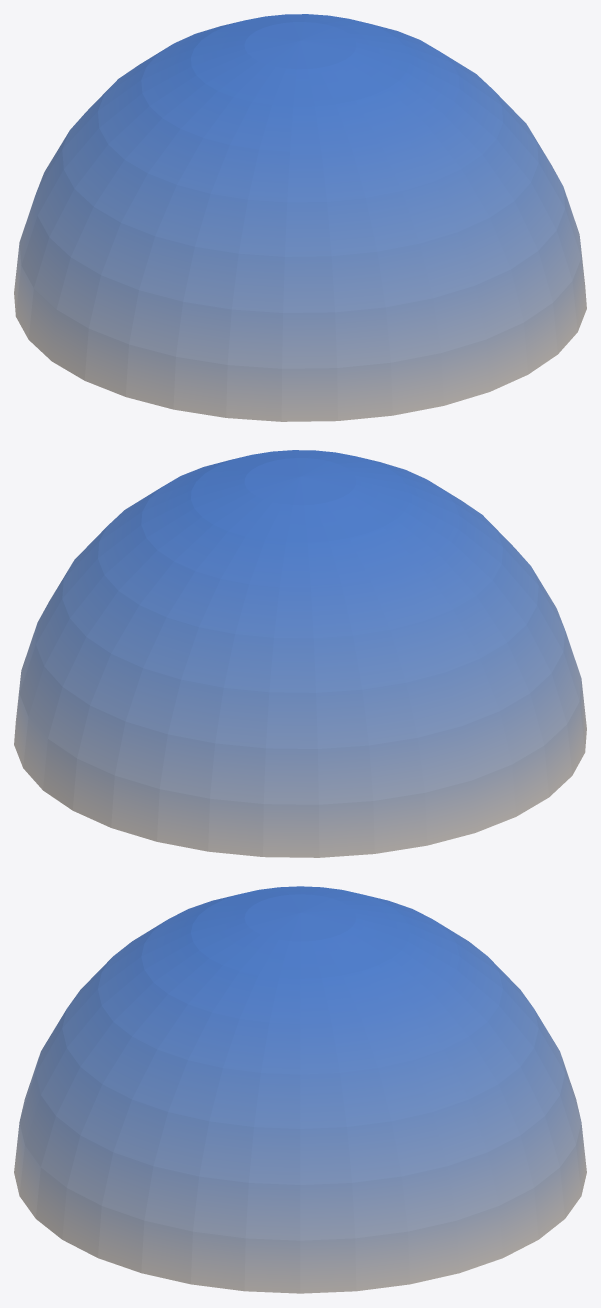
Rendered from mj_preview.glb.
3 renders of one model, top to bottom at view 1: azimuth 30°, elevation 25°; view 2: azimuth 150°, elevation 25°; view 3: azimuth 270°, elevation 25°, orthographic.
Visible parts, largest first — view 1: Sky; view 2: Sky; view 3: Sky.
Boxes of the visible parts, x1,y1,x2,y2 form: Sky: (14, 14, 586, 421); Sky: (14, 450, 586, 857); Sky: (14, 886, 586, 1293).
Size of the model in its own units: 18.02 by 10.98 by 18.02.
